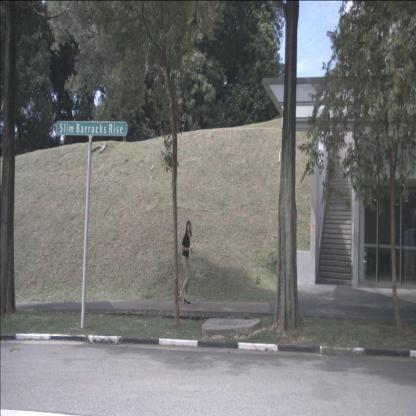human-pedestrian-adult: (177, 221, 193, 304)
